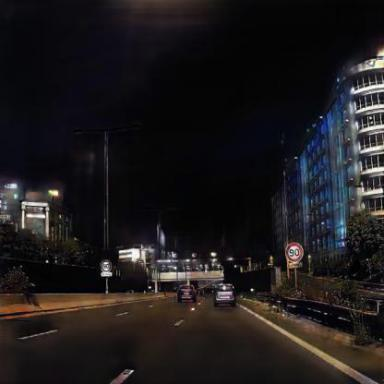Speed_limit_90: (285, 243, 303, 263)
